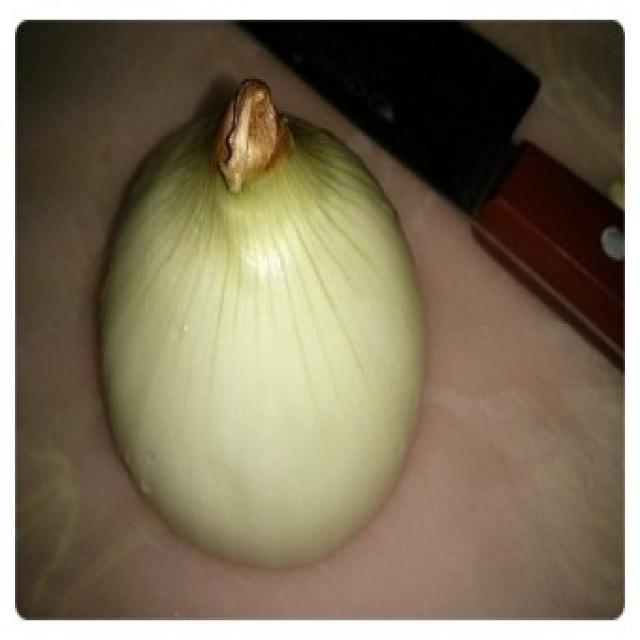Onion: (82, 79, 444, 576)
